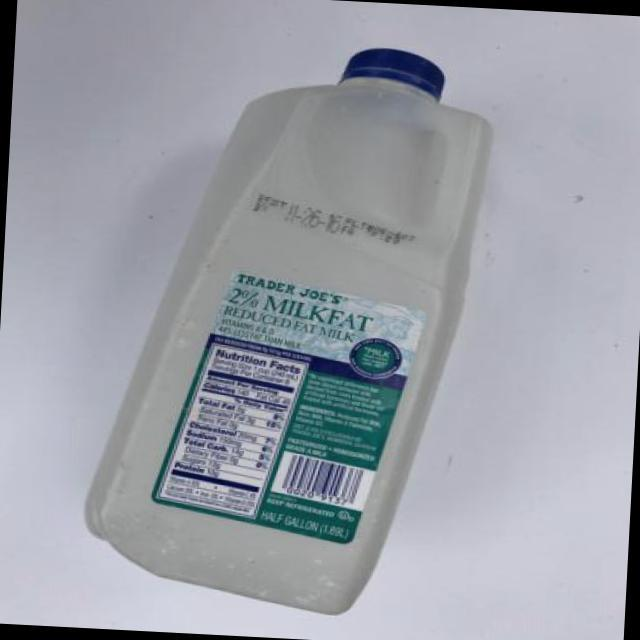HDPE Plastic: (80, 46, 498, 618)
